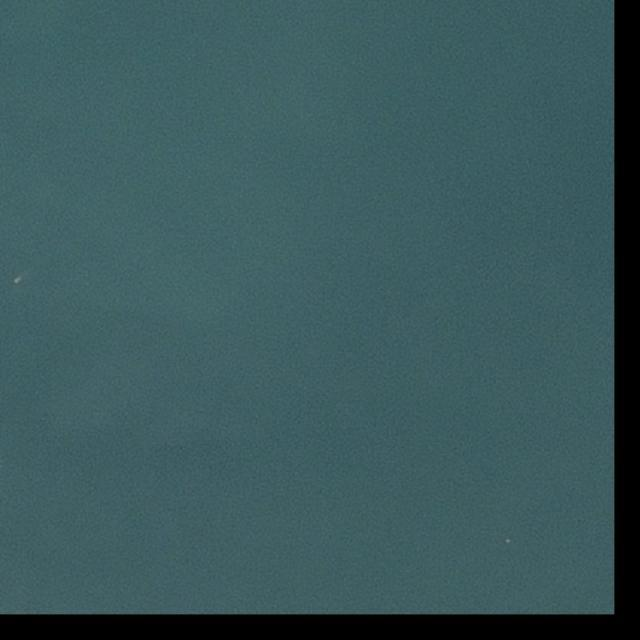ship: (13, 274, 23, 285), (504, 538, 511, 547)
